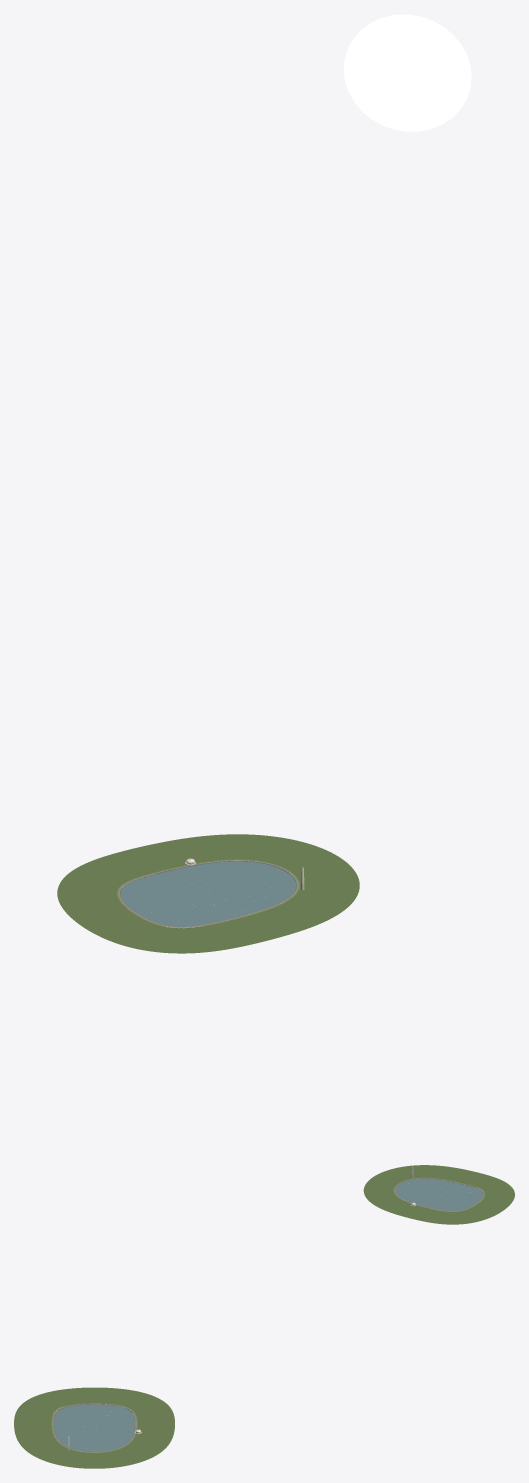
Rendered from cherryblossom.glb.
3 renders of one model, top to bottom at view 1: azimuth 30°, elevation 25°; view 2: azimuth 150°, elevation 25°; view 3: azimuth 270°, elevation 25°, orthographic. The views are drawn at different scales.
Parts seen in each view (by area): view 1: Sun, Land_021, Land_020, Land_019, Land_022, Land_023, Land_018, Land_010, Land_013; view 2: Land_020, Land_021, Land_019, Land_022, Land_023, Land_018, Land_010, Land_013; view 3: Land_021, Land_019, Land_020, Land_022, Land_023, Land_018, Land_010, Land_013, Land_017, Land_012, Land_011, Land_000 (+5 smaller).
Boxes of the visible parts, x1,y1,x2,y2 form: Sun: [343, 14, 471, 131]; Land_021: [66, 894, 230, 953]; Land_020: [57, 845, 201, 912]; Land_019: [147, 834, 320, 892]; Land_022: [189, 891, 347, 948]; Land_023: [205, 860, 359, 907]; Land_018: [205, 848, 342, 899]; Land_010: [141, 865, 256, 893]; Land_013: [206, 879, 320, 923]; Land_020: [406, 1195, 494, 1224]; Land_021: [444, 1176, 514, 1215]; Land_019: [363, 1185, 438, 1217]; Land_022: [419, 1165, 490, 1194]; Land_023: [372, 1165, 439, 1194]; Land_018: [365, 1178, 439, 1193]; Land_010: [402, 1192, 448, 1208]; Land_013: [408, 1166, 451, 1194]; Land_021: [15, 1387, 113, 1425]; Land_019: [95, 1426, 174, 1467]; Land_020: [96, 1388, 174, 1427]; Land_022: [14, 1414, 92, 1454]; Land_023: [32, 1427, 103, 1468]; Land_018: [67, 1426, 116, 1468]; Land_010: [94, 1414, 128, 1446]; Land_013: [19, 1426, 93, 1448]; Land_017: [61, 1410, 93, 1438]; Land_012: [60, 1406, 93, 1427]; Land_011: [81, 1407, 125, 1425]; Land_000: [79, 1428, 123, 1468].
Bounding box in the file's own units: 5142 × 3748 × 5163.
